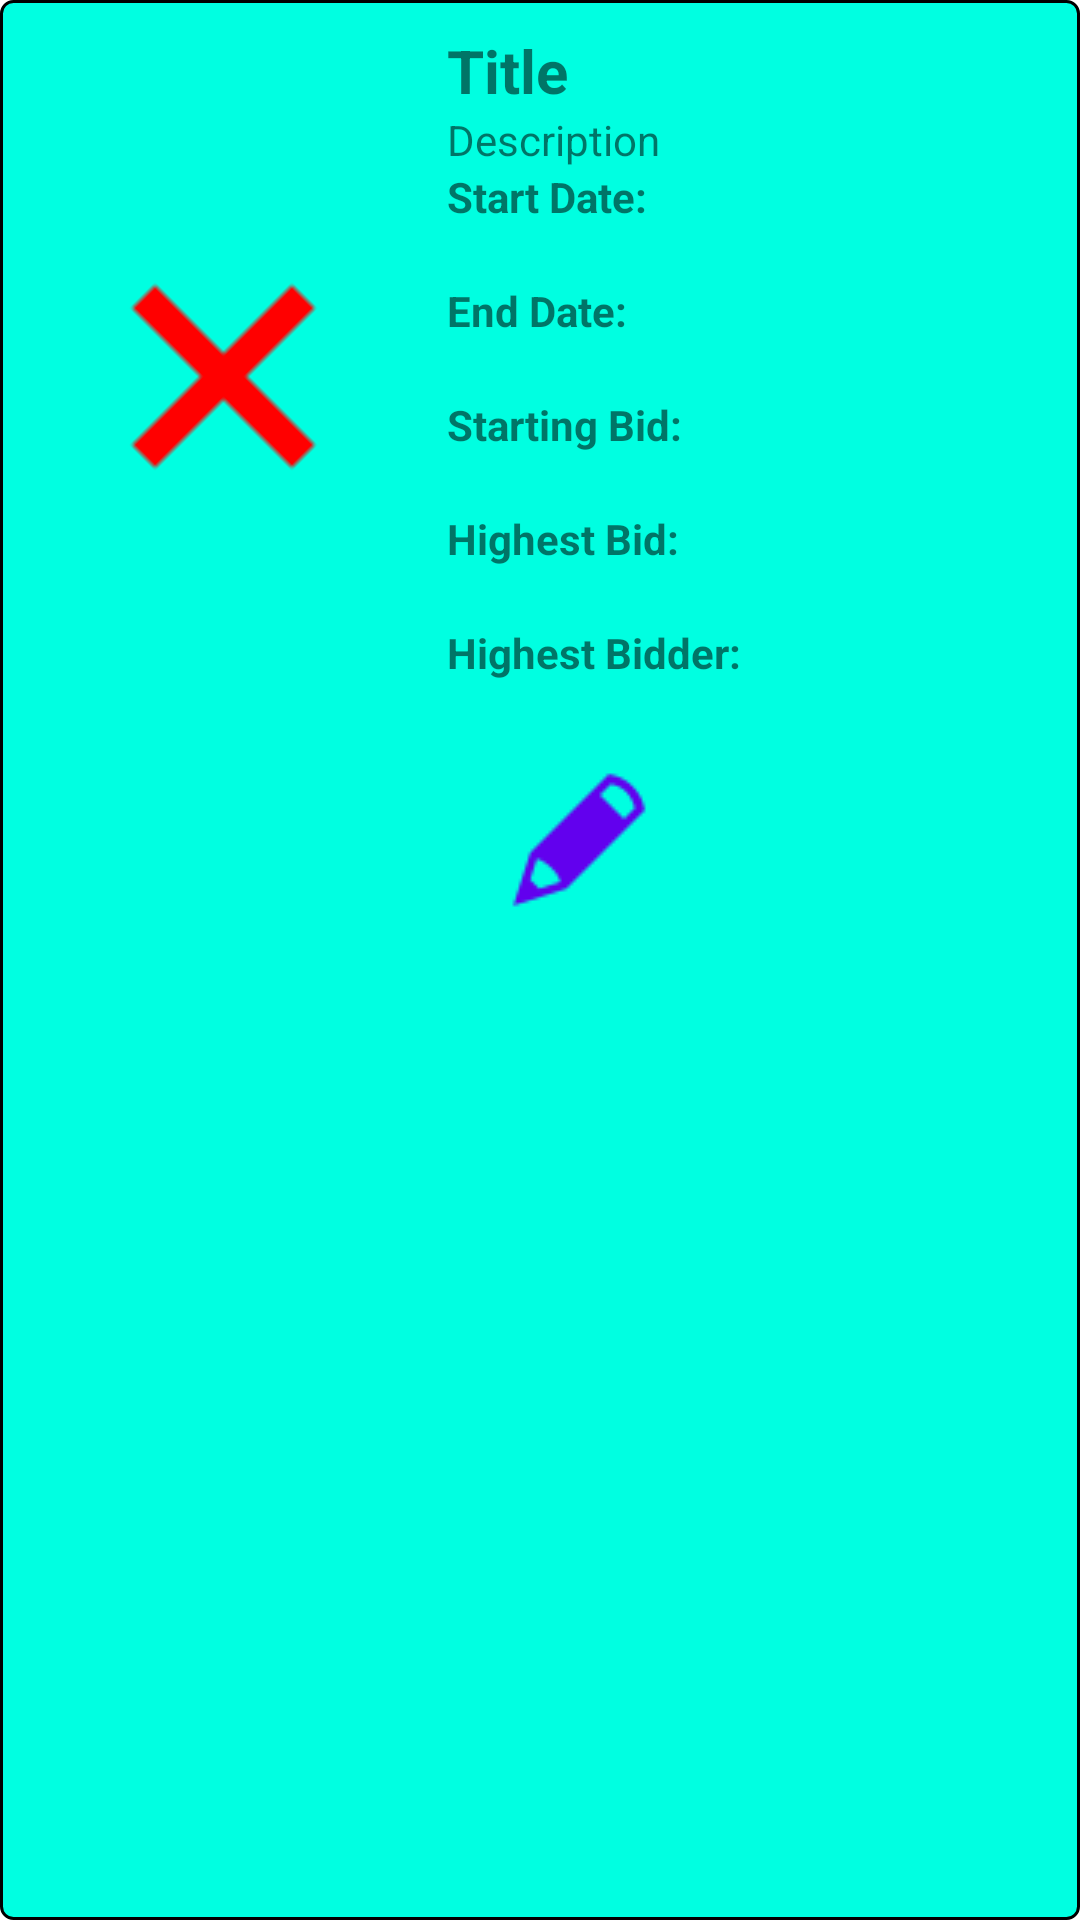

Icons on this 1080x1920 Android screen, each with its box as (x1, y1, x2, y2):
cross: (131, 284, 316, 469)
edit: (512, 773, 646, 907)
